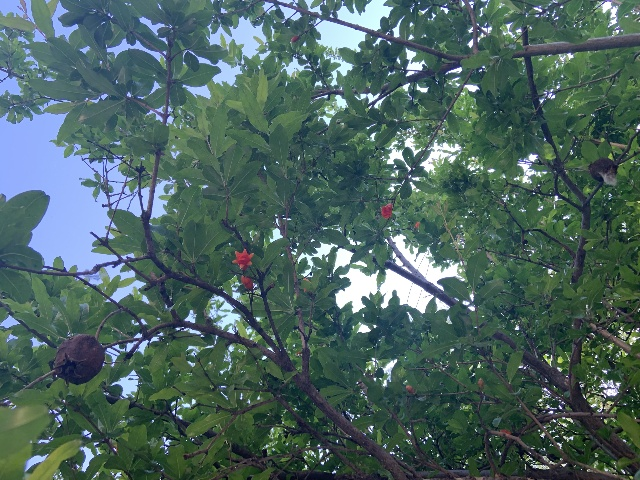bud: (240, 275, 253, 289), (290, 35, 298, 42)
flower: (232, 248, 253, 270), (380, 202, 393, 218)
